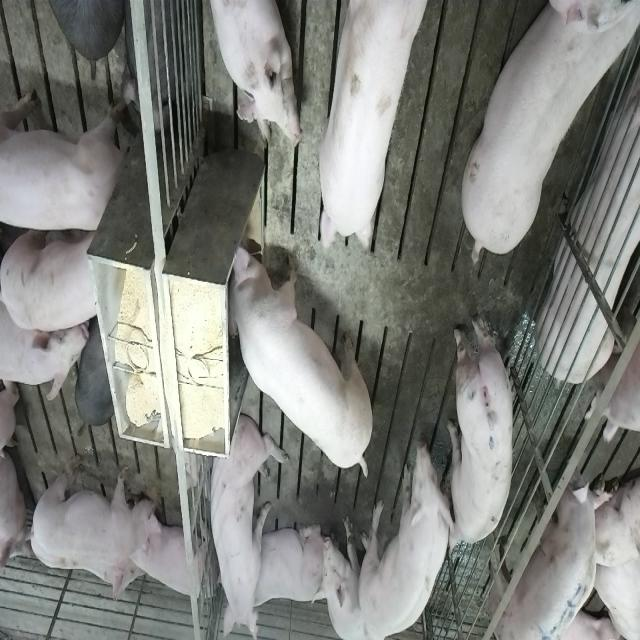Feeding: (220, 239, 370, 477)
Sitting: (204, 412, 285, 636), (318, 508, 369, 638)
Standing: (456, 5, 634, 267), (316, 0, 442, 254), (490, 449, 613, 640), (354, 397, 450, 636), (2, 85, 128, 236), (447, 310, 515, 550), (28, 452, 158, 562), (0, 244, 88, 400), (1, 228, 100, 332)
Sternal_lying: (538, 55, 640, 453), (206, 0, 301, 149), (132, 506, 210, 604), (248, 519, 324, 609)
